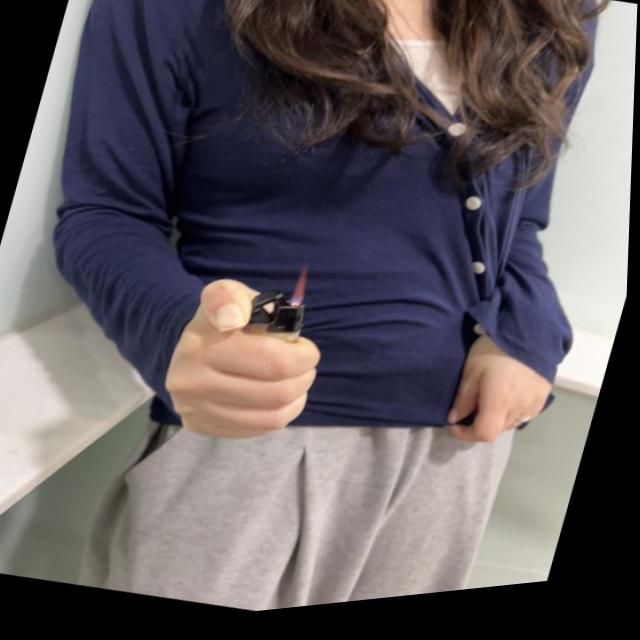Fire: (291, 272, 315, 313)
